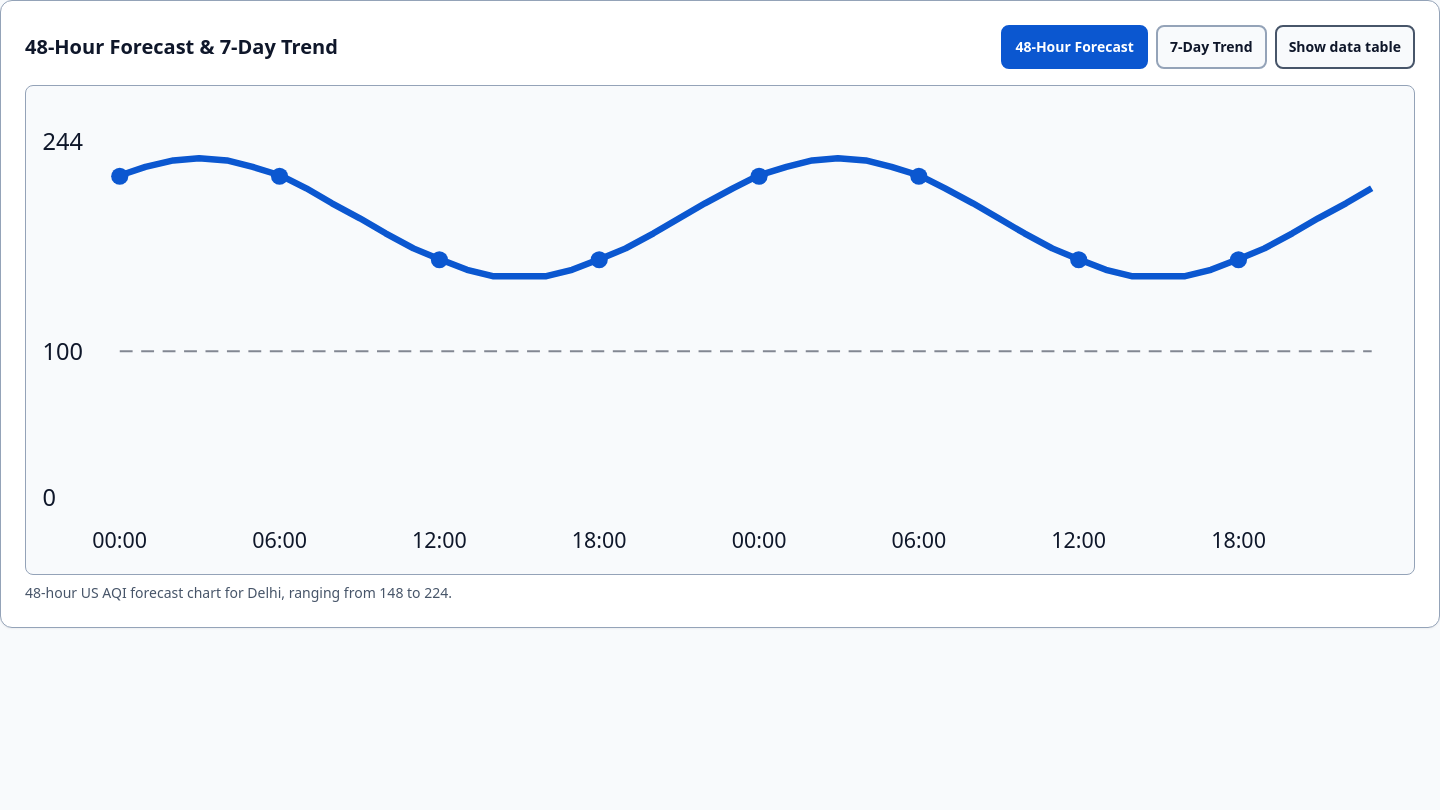
Test: ForecastSection toggles between accessible 48h/7d charts, tables, and empty series
The image size is (1440, 810).
Expected: the picture named "48-hour US AQI forecast chart" is shown, [25, 85, 1415, 575]
Click the button "7-Day Trend" at (1211, 47), box [1156, 25, 1267, 69]
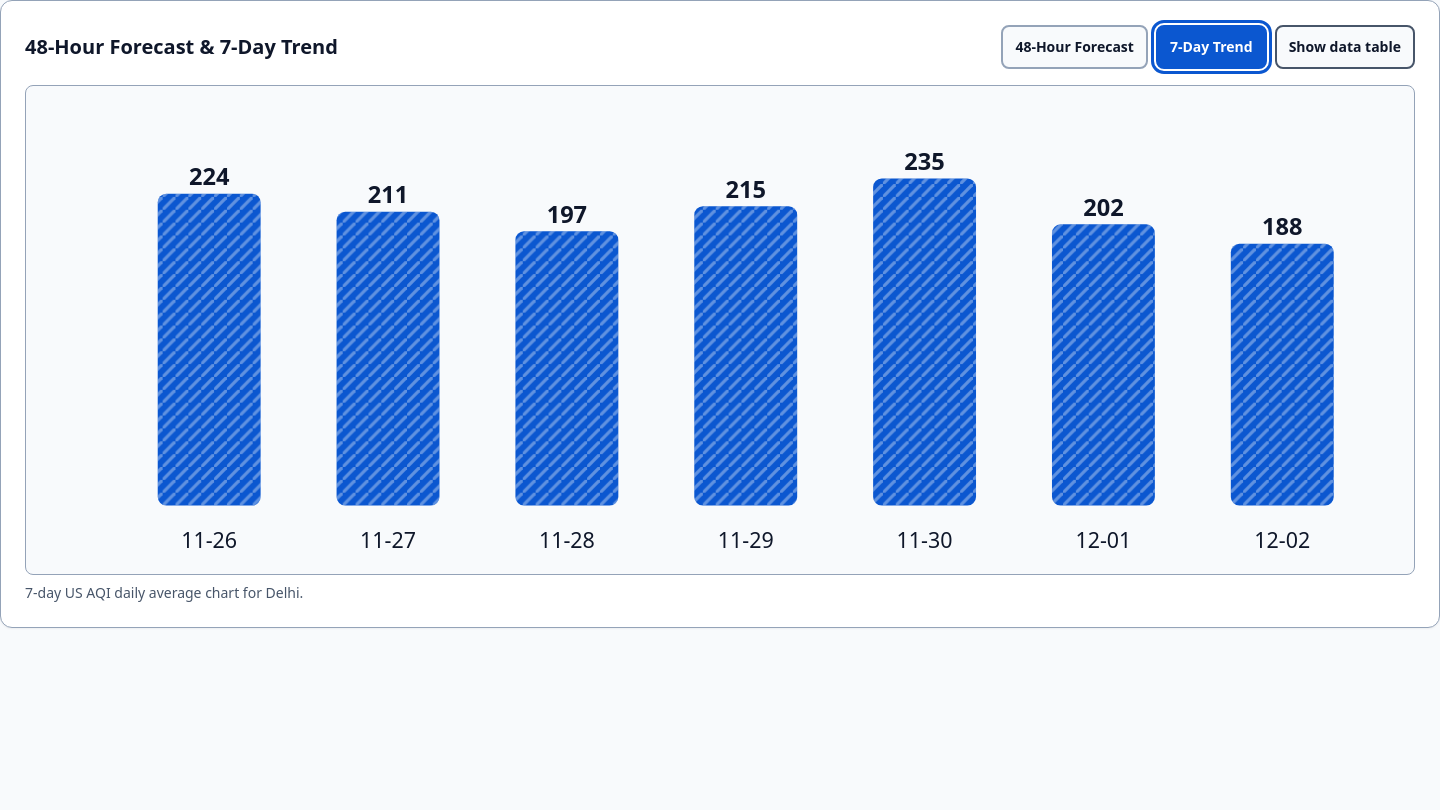
Expected: the picture named "7-day US AQI daily average chart" is shown, [25, 85, 1415, 575]
Click the button "Show data table" at (1345, 47), box [1275, 25, 1415, 69]
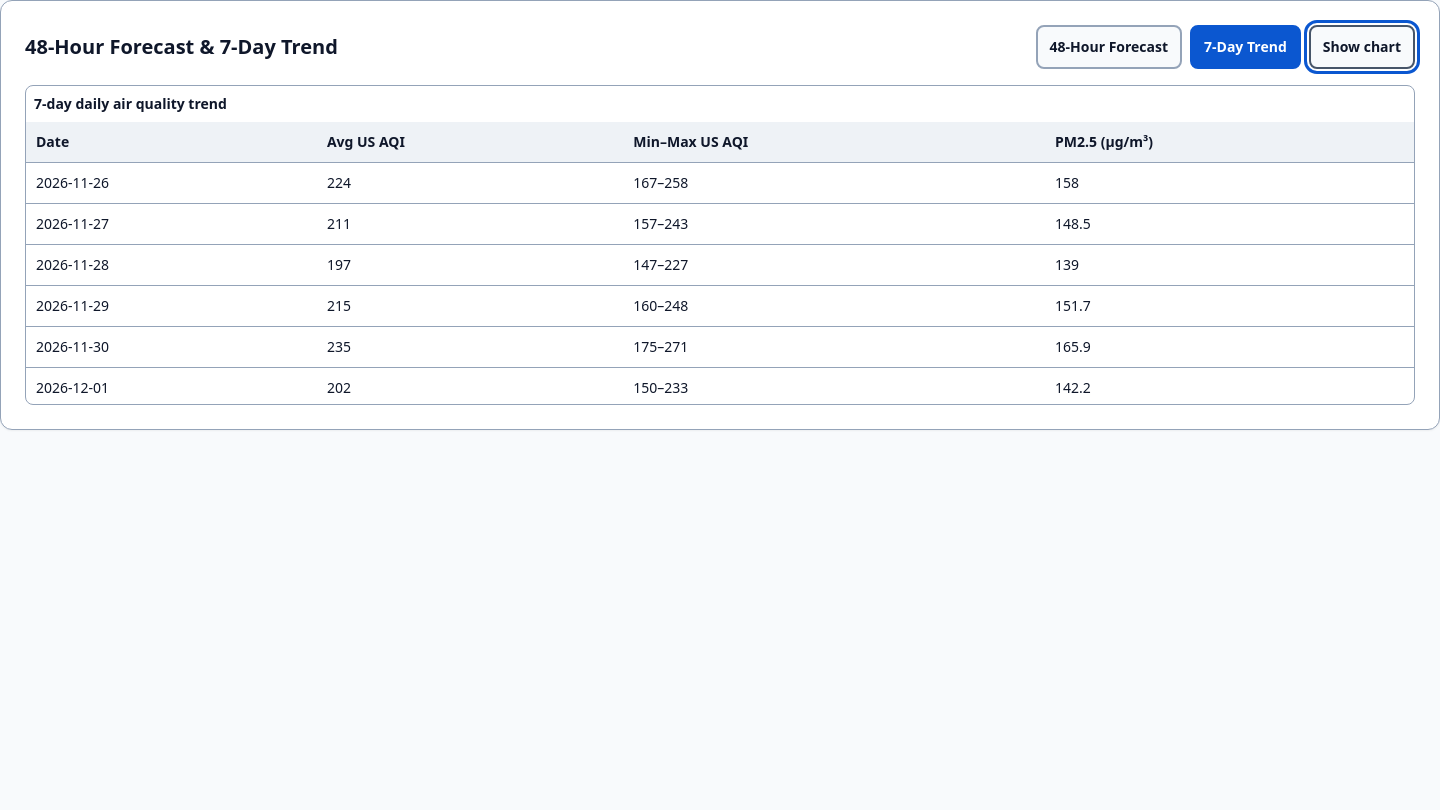
Expected: the table is shown, [26, 86, 1414, 405]
Click the button "48-Hour Forecast" at (1109, 47), box [1036, 25, 1182, 69]
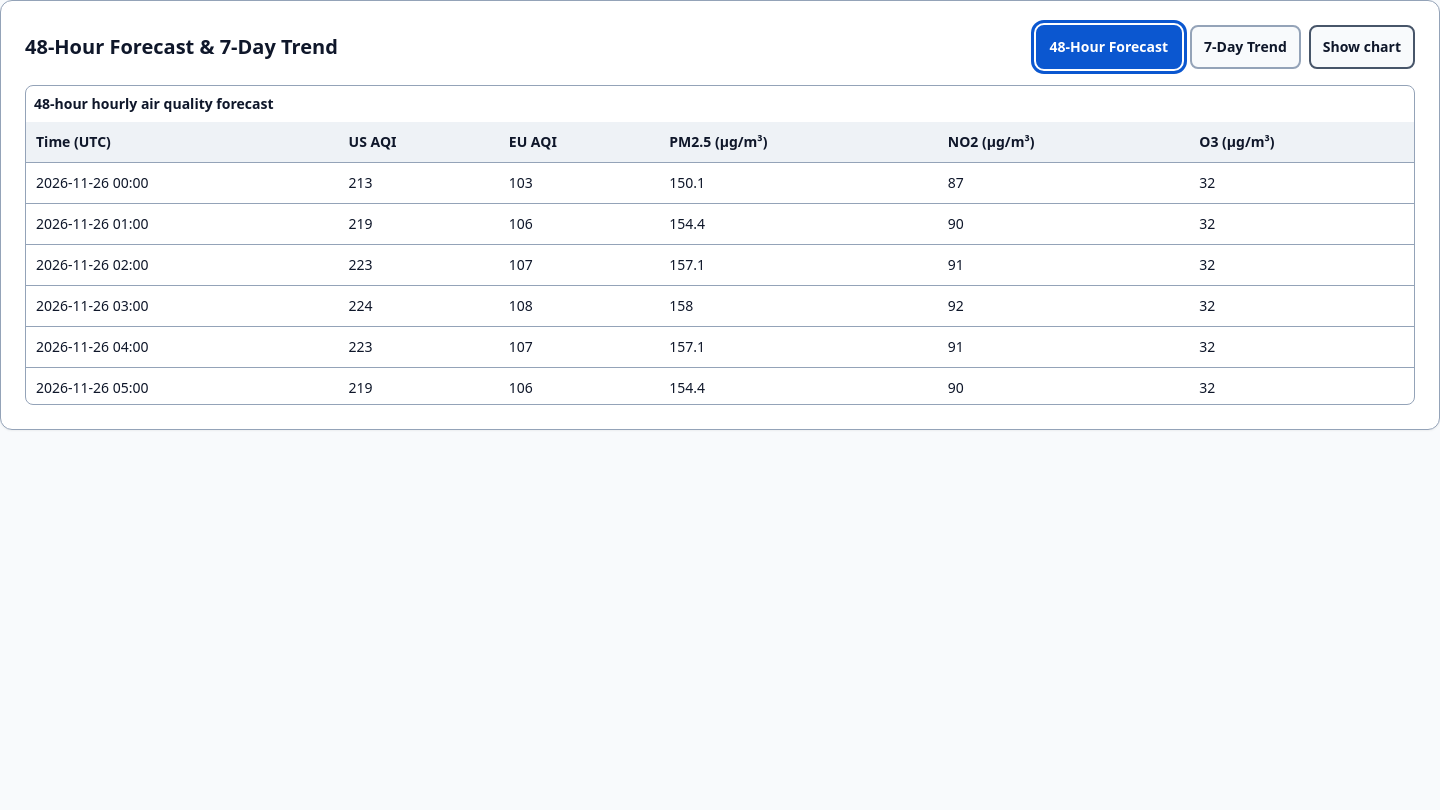
Expected: the text "48-hour hourly air quality forecast" is shown, [34, 94, 274, 113]
